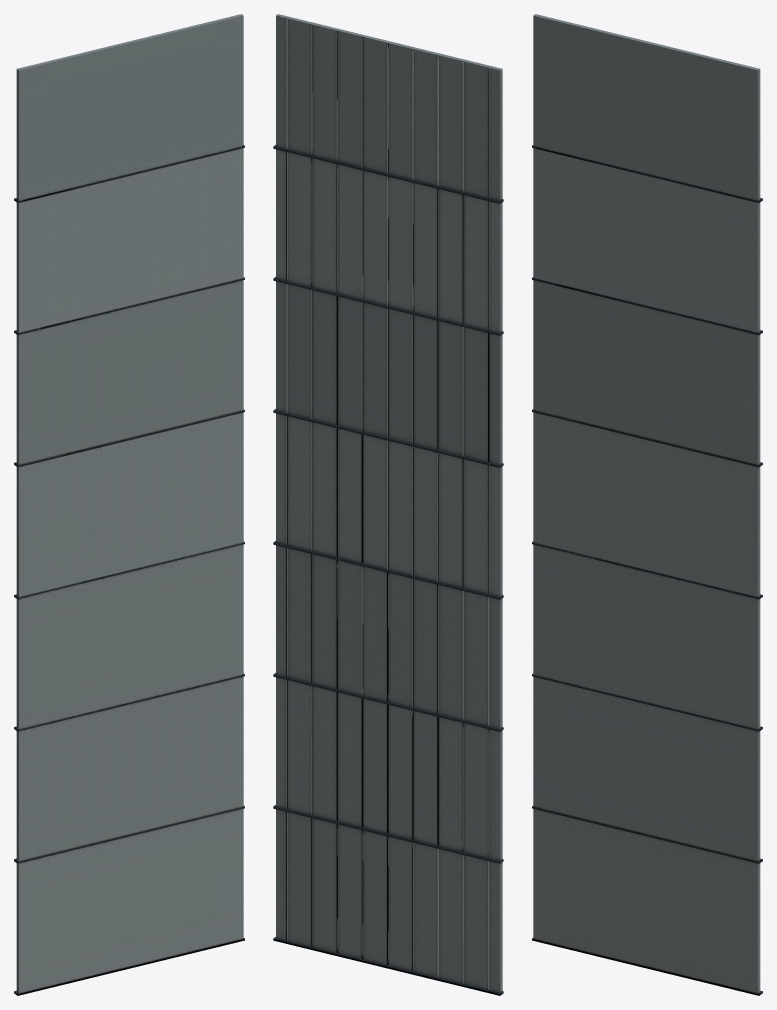
File: high_bay_door.glb
3 views of the same model, side by side, from view 1: azimuth 30°, elevation 25°; view 2: azimuth 150°, elevation 25°; view 3: azimuth 330°, elevation 25° (orthographic).
Parts seen in each view (by area): view 1: panels; view 2: panels; view 3: panels.
Boxes of the visible parts, <box> form: panels: <box>14,14,244,995</box>; panels: <box>273,14,503,995</box>; panels: <box>532,14,762,995</box>.
Bounding box in the file's own units: 18 × 70.02 × 0.5001.
1 material, 1 textured.
